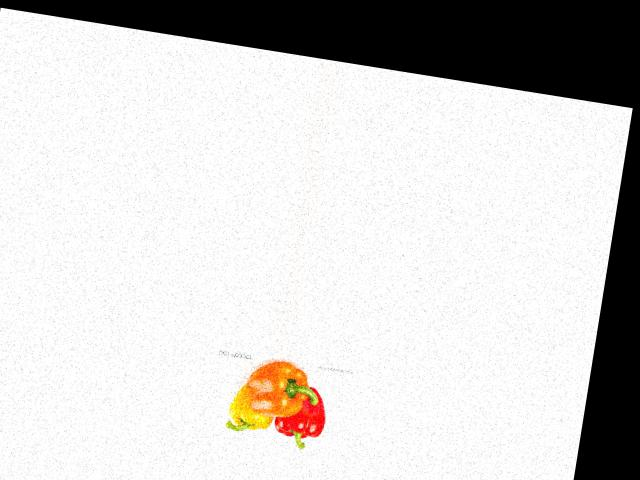bell_pepper: (222, 379, 280, 439)
